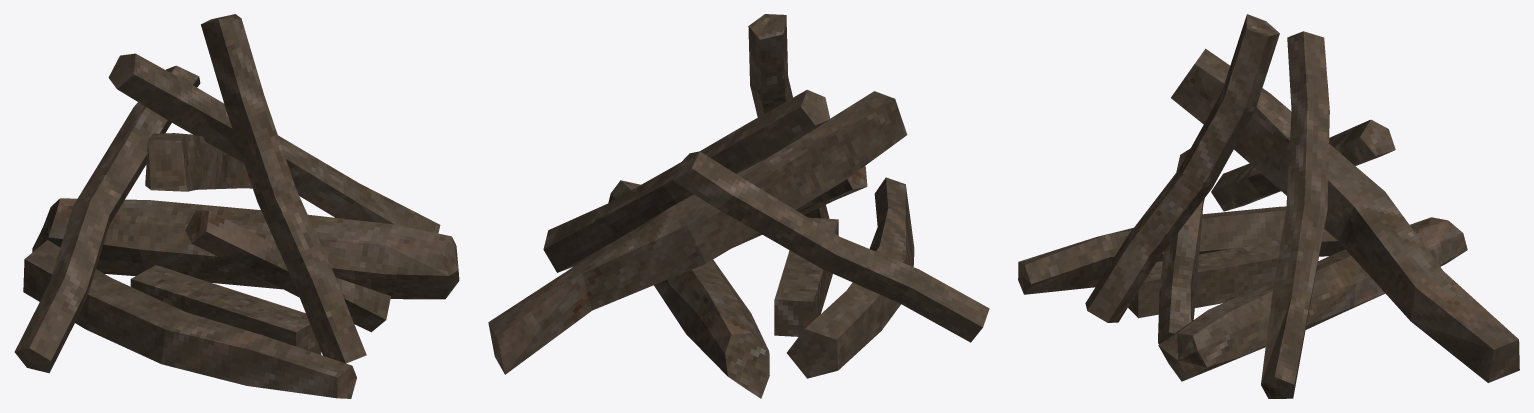
File: bonfire.fbx
3 renders of one model, left to right at view 1: azimuth 30°, elevation 25°; view 2: azimuth 150°, elevation 25°; view 3: azimuth 270°, elevation 25°, orthographic. The views are drawn at different scales.
Visible parts, largest first — view 1: bonfire; view 2: bonfire; view 3: bonfire.
Boxes of the visible parts, x1=… form: bonfire: x1=14, y1=14, x2=459, y2=398; bonfire: x1=488, y1=14, x2=989, y2=398; bonfire: x1=1018, y1=14, x2=1519, y2=398.
Bounding box in the file's own units: 142 × 95.11 × 150.
